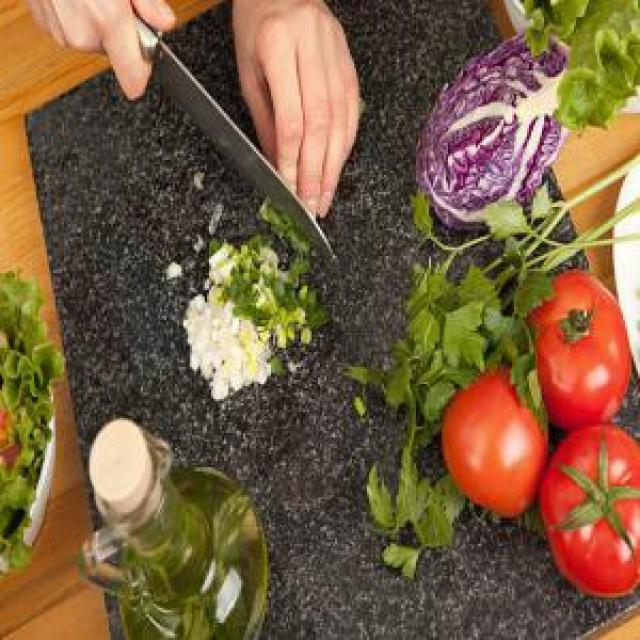knife: (84, 7, 342, 278)
